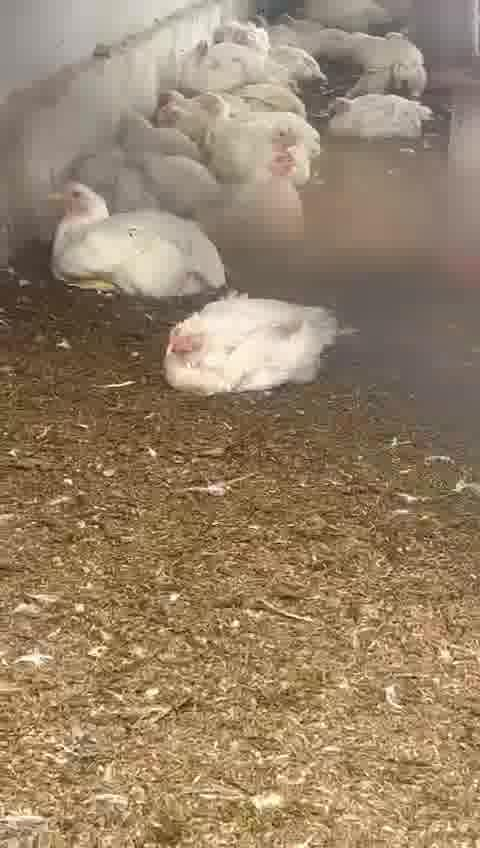AbNormal: (160, 295, 347, 399), (81, 151, 195, 207), (111, 114, 203, 175), (158, 43, 243, 101), (148, 84, 205, 138)
Normal: (43, 172, 233, 310), (194, 77, 321, 164), (205, 147, 315, 240), (314, 73, 436, 142)
